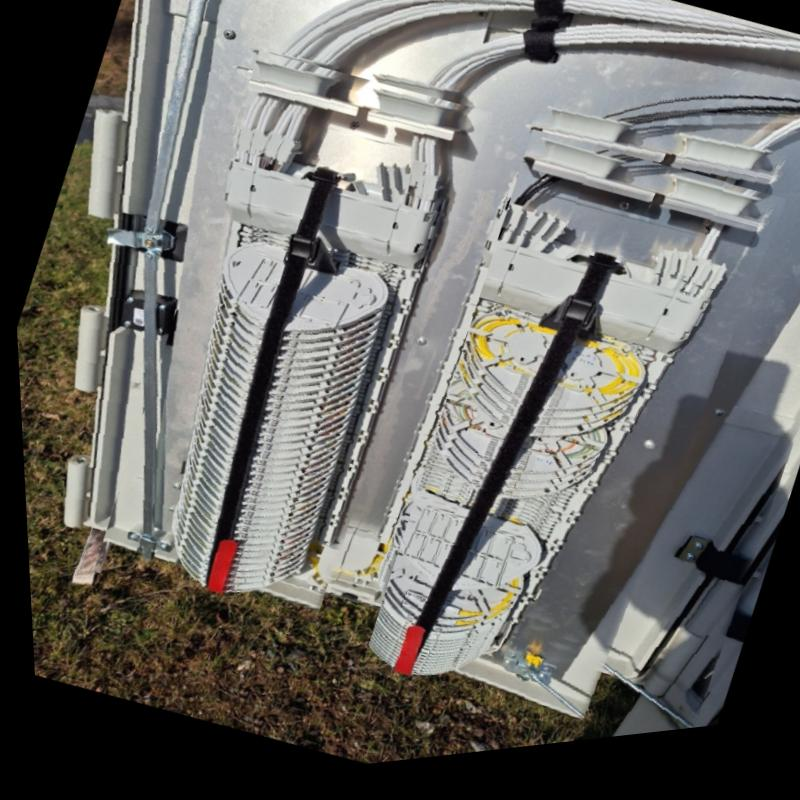NT-Gehause: (54, 0, 800, 752)
Spleiskassetten: (359, 144, 781, 692), (152, 57, 477, 608)
